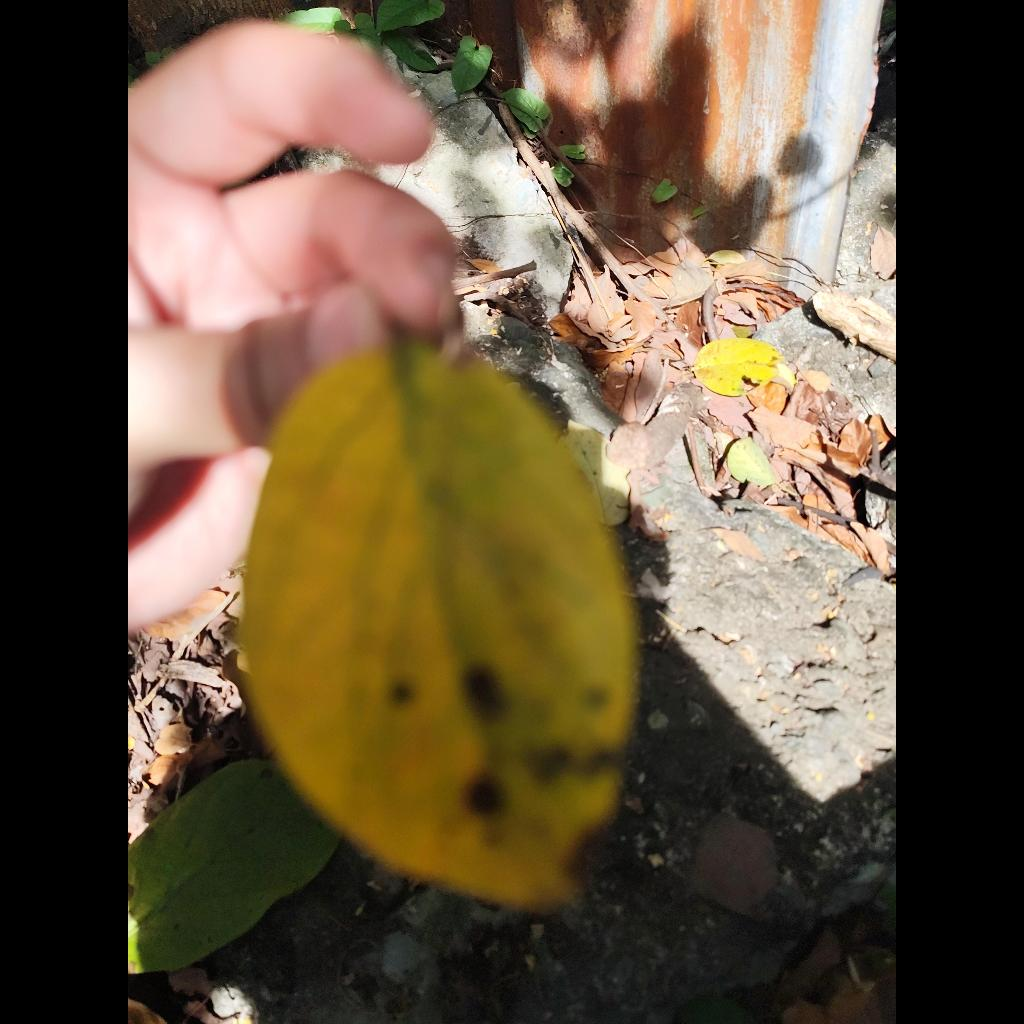deficiencia_nutricional: (241, 343, 636, 910)
